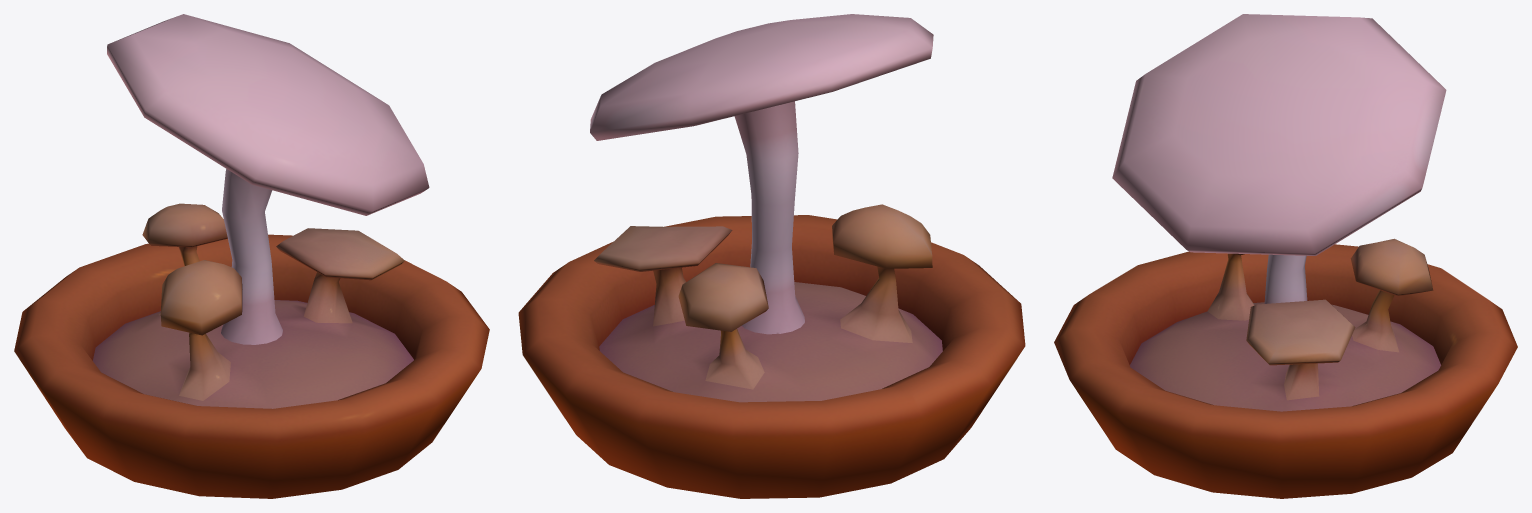
File: MushRoom.fbx
The picture shows the model from 3 angles, left to right: view 1: azimuth 30°, elevation 25°; view 2: azimuth 150°, elevation 25°; view 3: azimuth 270°, elevation 25°; orthographic projection. The views are drawn at different scales.
Parts seen in each view (by area): view 1: Mushroom; view 2: Mushroom; view 3: Mushroom.
Part boxes in pixels (box(x1,y1,x2,y2)): Mushroom: box(14, 14, 489, 498); Mushroom: box(518, 14, 1025, 498); Mushroom: box(1054, 14, 1517, 498).
Bounding box in the file's own units: 27.78 × 24.89 × 27.78.
1 material, 1 textured.
